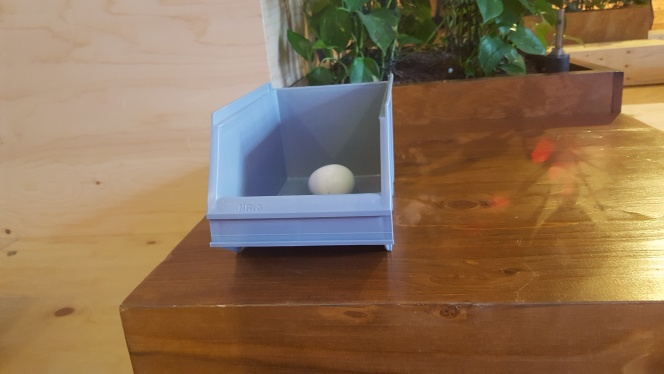egg: (308, 164, 354, 194)
tray_front: (206, 112, 394, 256)
